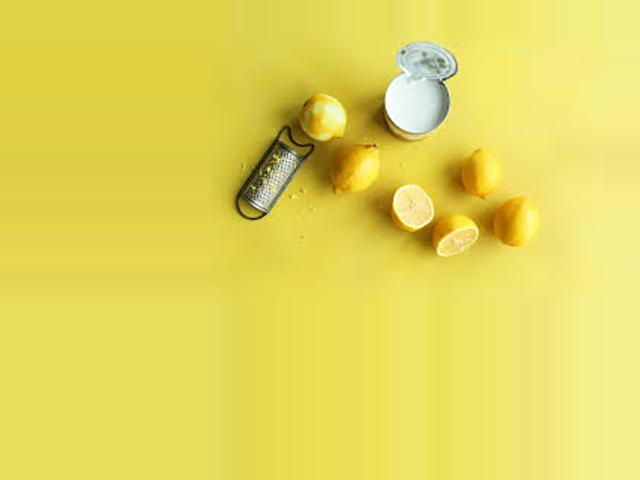lemon: (303, 89, 354, 149)
